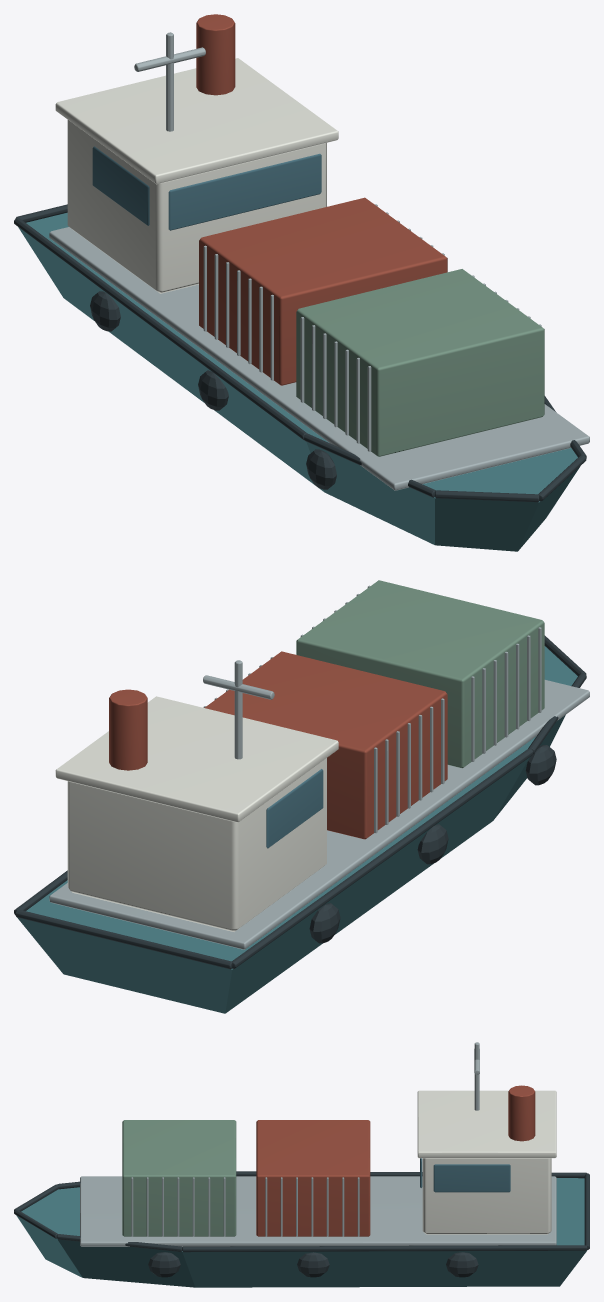
Rendered from CargoBarge.glb.
The picture shows the model from 3 angles, top to bottom: view 1: azimuth 30°, elevation 25°; view 2: azimuth 150°, elevation 25°; view 3: azimuth 270°, elevation 25°; orthographic projection. The views are drawn at different scales.
Parts seen in each view (by area): view 1: Freight container, Cargo hull, Freight container.001, Bridge roof, Weather deck, Bridge cabin, Bridge front windows, Exhaust stack, Gunwale.006, Bridge side windows, Side fender, Side fender.002 (+4 smaller); view 2: Bridge cabin, Cargo hull, Freight container, Freight container.001, Bridge roof, Weather deck, Gunwale.006, Exhaust stack, Bridge side windows, Gunwale, Side fender.002, Side fender (+3 smaller); view 3: Cargo hull, Freight container, Freight container.001, Weather deck, Bridge roof, Bridge cabin, Gunwale.001, Bridge side windows.001, Exhaust stack, Side fender.003, Side fender.005, Side fender.004 (+3 smaller).
Part boxes in pixels (x1,y1,x2,y2): Freight container: [296, 269, 544, 456]; Cargo hull: [18, 212, 580, 551]; Freight container.001: [199, 197, 447, 385]; Bridge roof: [55, 58, 338, 184]; Weather deck: [49, 227, 589, 490]; Bridge cabin: [67, 120, 326, 293]; Bridge front windows: [168, 153, 321, 230]; Exhaust stack: [196, 14, 235, 95]; Gunwale.006: [14, 217, 307, 439]; Bridge side windows: [92, 146, 149, 225]; Side fender: [306, 449, 336, 489]; Side fender.002: [90, 291, 120, 331]; Bridge cabin: [67, 758, 326, 931]; Cargo hull: [17, 646, 577, 1013]; Freight container: [296, 580, 544, 768]; Freight container.001: [204, 651, 447, 839]; Bridge roof: [55, 696, 338, 822]; Weather deck: [49, 680, 589, 949]; Gunwale.006: [232, 748, 533, 968]; Exhaust stack: [109, 689, 147, 770]; Bridge side windows: [266, 769, 323, 848]; Gunwale: [15, 909, 232, 969]; Side fender.002: [309, 903, 340, 943]; Side fender: [525, 745, 556, 785]; Cargo hull: [16, 1178, 587, 1287]; Freight container: [122, 1120, 236, 1236]; Freight container.001: [256, 1120, 370, 1236]; Weather deck: [80, 1176, 556, 1246]; Bridge roof: [417, 1090, 556, 1158]; Bridge cabin: [422, 1158, 551, 1234]; Gunwale.001: [182, 1245, 587, 1252]; Bridge side windows.001: [433, 1164, 510, 1192]; Exhaust stack: [508, 1085, 535, 1141]; Side fender.003: [148, 1252, 180, 1277]; Side fender.005: [446, 1252, 478, 1277]; Side fender.004: [297, 1252, 329, 1277].
Bounding box in the file's own units: 3.82 × 4.55 × 11.61.
